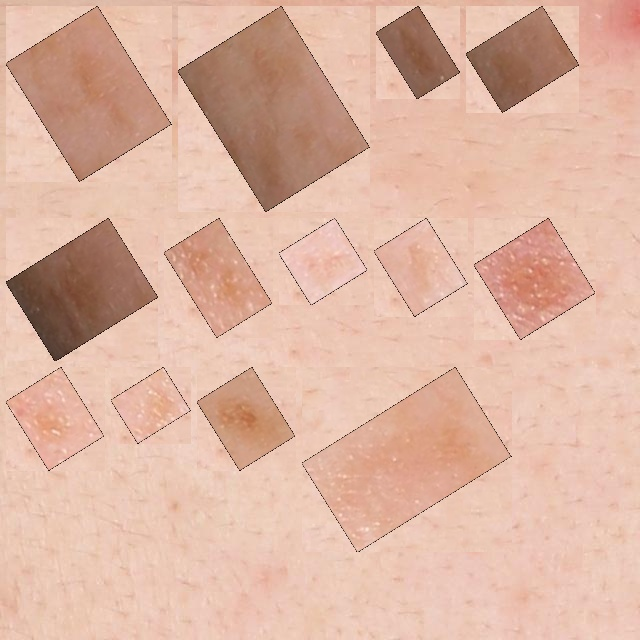melasma: (189, 17, 358, 200), (313, 378, 500, 541), (17, 17, 160, 170), (17, 229, 147, 350), (485, 229, 584, 328), (175, 229, 261, 326), (477, 17, 568, 101), (17, 378, 93, 459), (208, 378, 284, 459), (385, 229, 456, 305), (387, 17, 449, 88), (290, 229, 356, 294), (122, 378, 180, 432)
